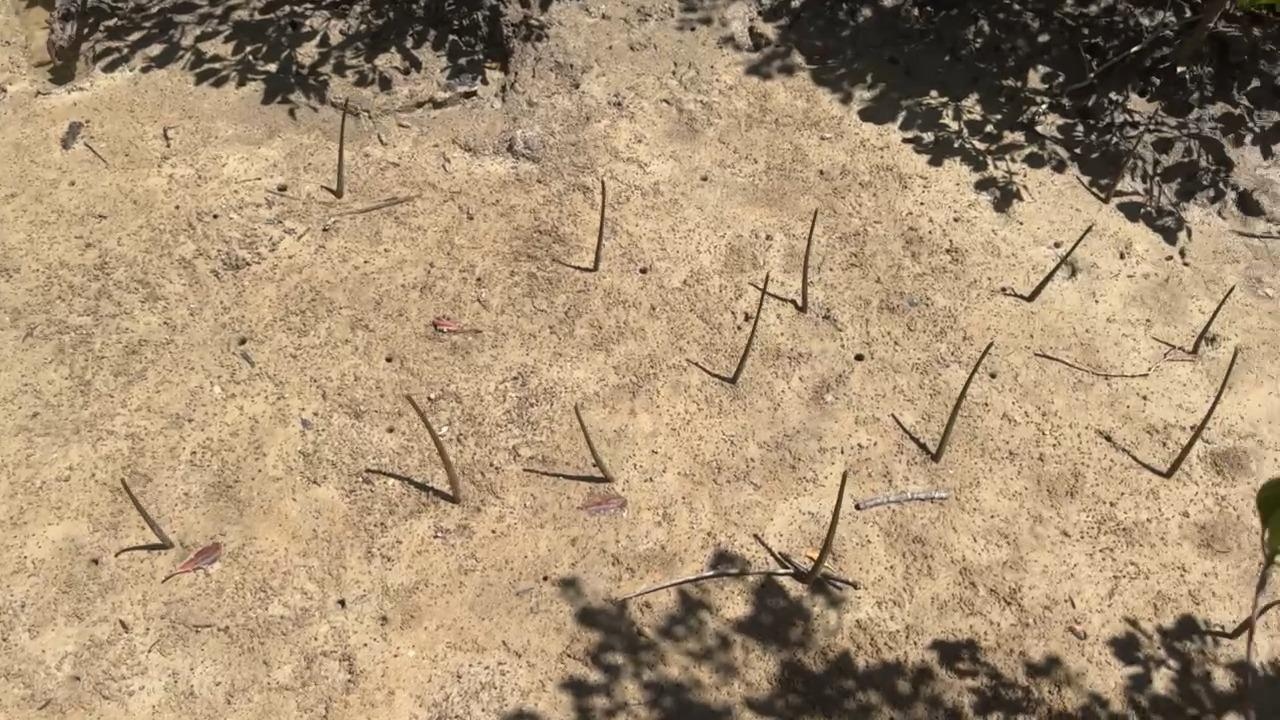Tree: (1163, 345, 1240, 479), (931, 340, 996, 464), (404, 392, 464, 504), (1103, 106, 1159, 205), (1026, 224, 1095, 303), (803, 469, 848, 585), (730, 270, 771, 385), (119, 475, 174, 549), (574, 400, 616, 483), (1190, 284, 1238, 355), (1230, 597, 1280, 641), (801, 207, 819, 314), (335, 96, 350, 199), (592, 178, 607, 272)
